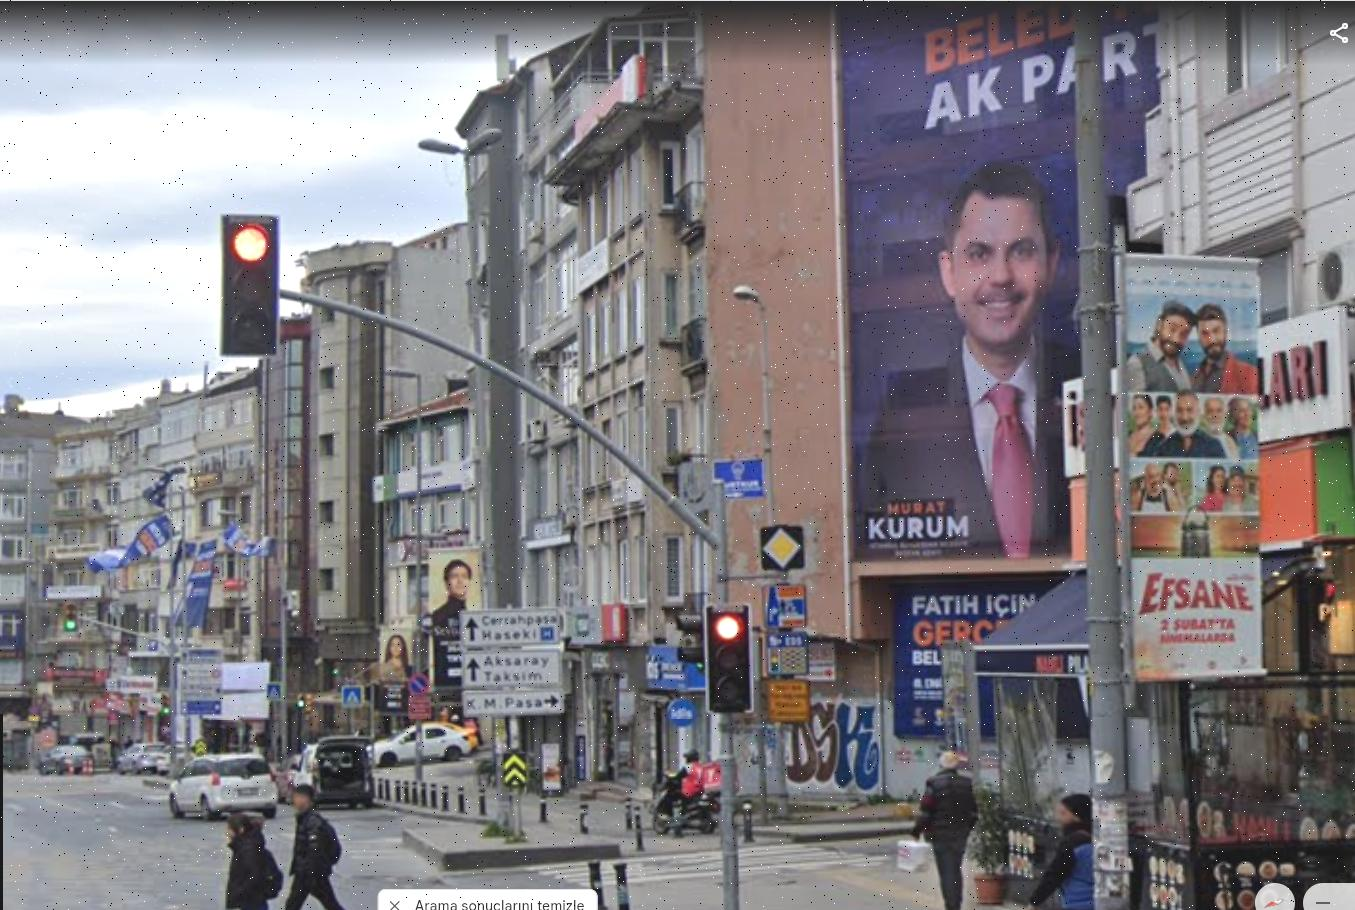redlight: (222, 213, 276, 352), (709, 608, 750, 709)
